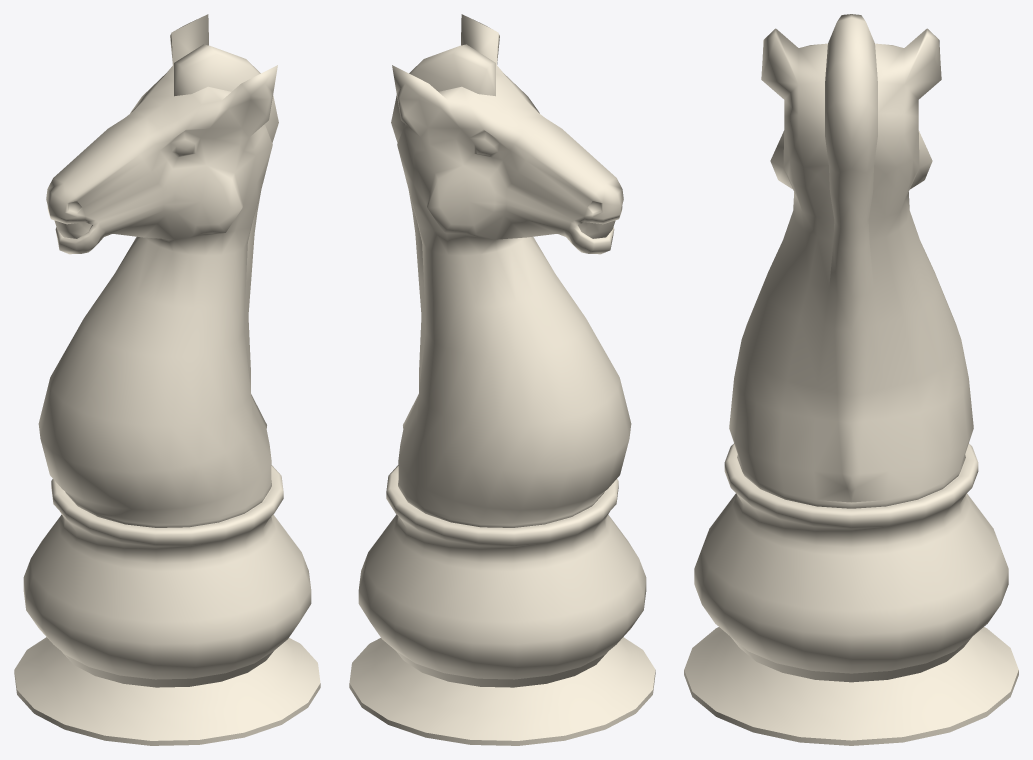
The model's file is white-knight.glb.
The picture shows the model from 3 angles, left to right: view 1: azimuth 30°, elevation 25°; view 2: azimuth 150°, elevation 25°; view 3: azimuth 270°, elevation 25°; orthographic projection. The views are drawn at different scales.
Parts seen in each view (by area): view 1: White_knight; view 2: White_knight; view 3: White_knight.
Part boxes in pixels (left/top/right/bottom): White_knight: left=14, top=14, right=320, bottom=745; White_knight: left=349, top=14, right=655, bottom=745; White_knight: left=684, top=14, right=1018, bottom=745.
Bounding box in the file's own units: 0.0411 × 0.0921 × 0.0411.
